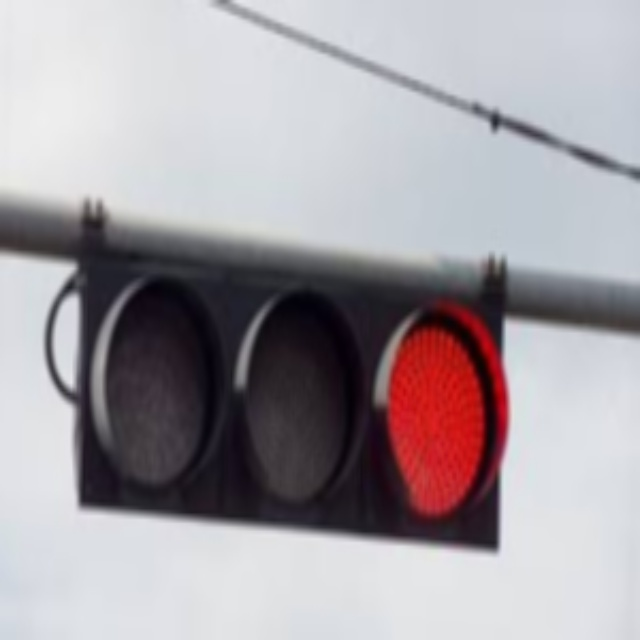red_light: (381, 325, 505, 528)
